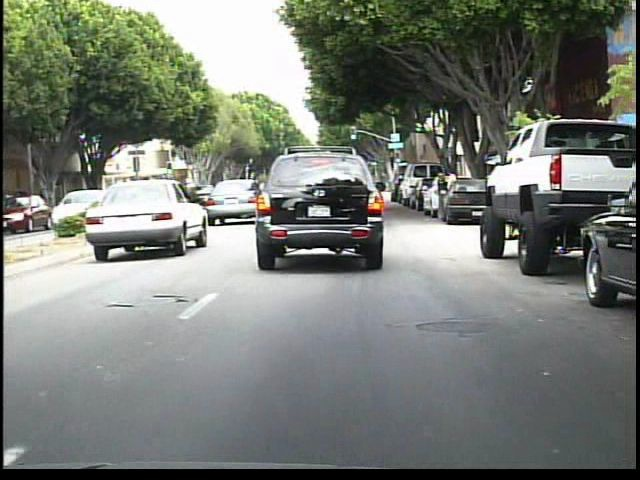person: (443, 166, 460, 217), (435, 174, 452, 223)
